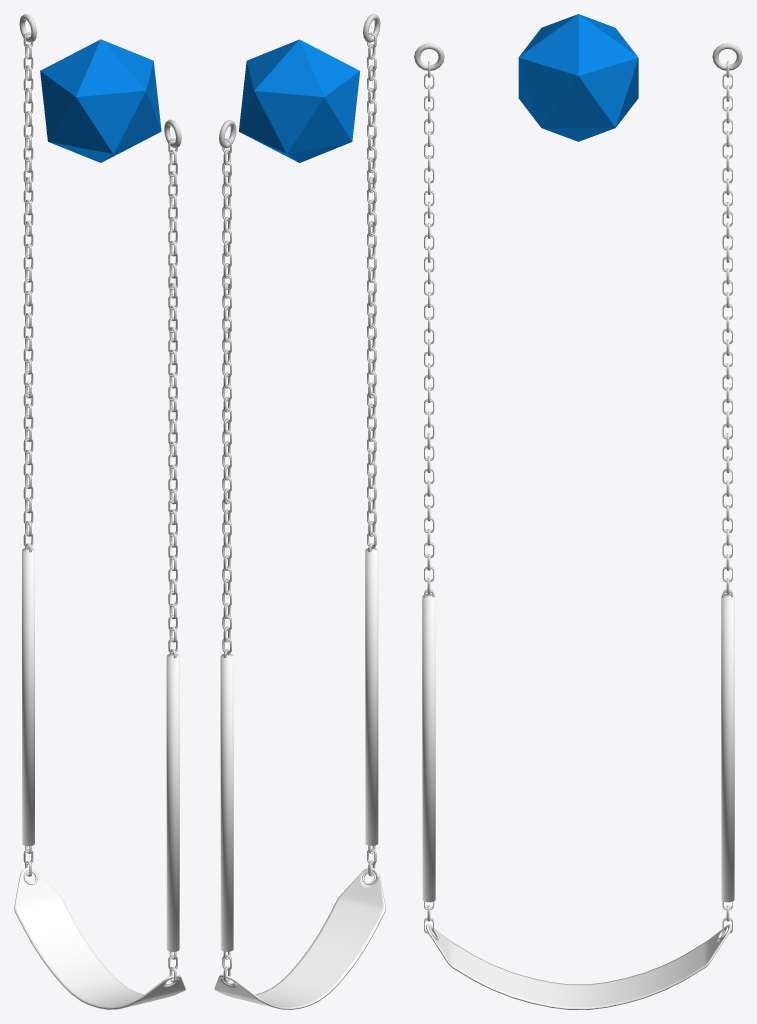
The model's file is Sling swing.glb.
3 views of the same model, side by side, from view 1: azimuth 30°, elevation 25°; view 2: azimuth 150°, elevation 25°; view 3: azimuth 270°, elevation 25° (orthographic). The views are drawn at different scales.
Visible parts, largest first — view 1: Circle, Joint.013, Torus; view 2: Circle, Joint.013, Torus; view 3: Circle, Joint.013, Torus.
Boxes of the visible parts, x1,y1,x2,y2 form: Circle: (14, 32, 185, 1009); Joint.013: (40, 39, 161, 162); Torus: (19, 14, 181, 148); Circle: (214, 32, 385, 1009); Joint.013: (239, 39, 360, 162); Torus: (219, 14, 380, 148); Circle: (422, 61, 734, 1009); Joint.013: (518, 14, 638, 141); Torus: (414, 43, 742, 70).
Size of the model in its own units: 0.2726 by 2.35 by 0.7103.
